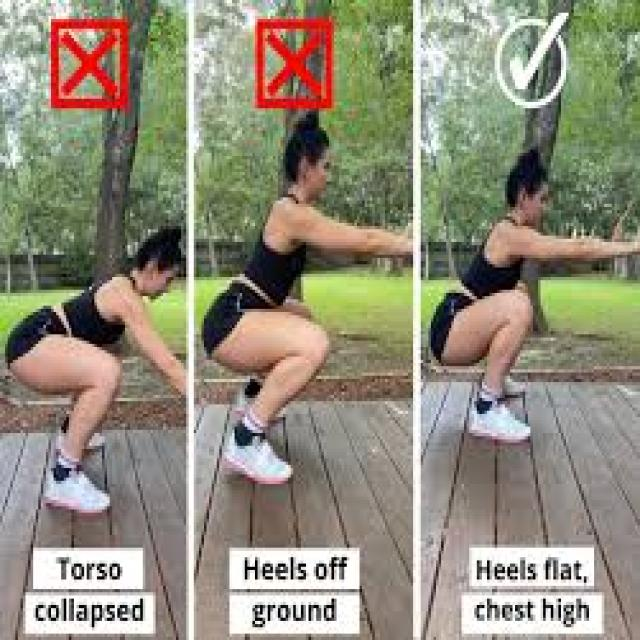squat: (426, 143, 640, 443)
